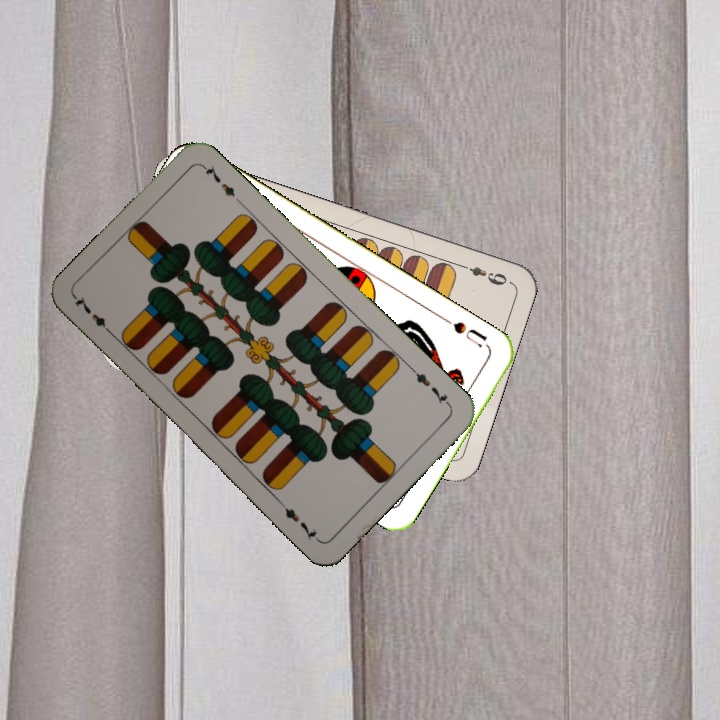E7: (70, 292, 117, 339), (407, 363, 453, 409)
E9: (455, 260, 510, 288)
SU: (439, 313, 490, 350)
